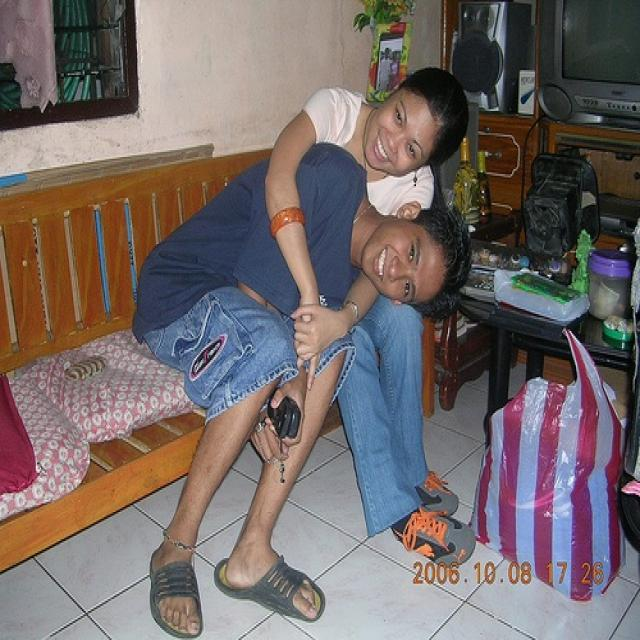bottle: (454, 137, 476, 215), (476, 149, 493, 220)
tvmonitor: (535, 0, 639, 130)
